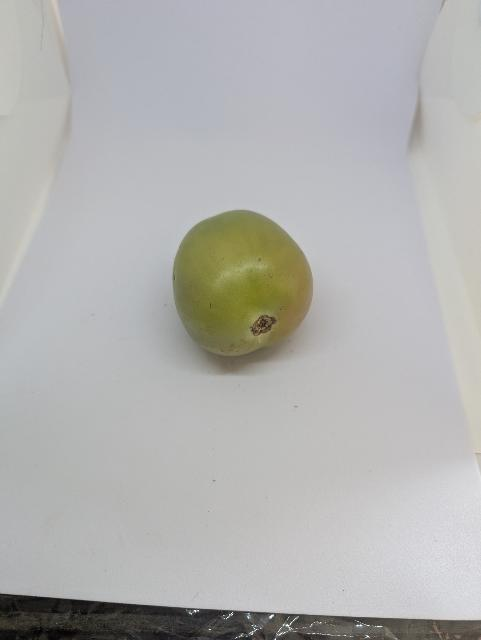green: (159, 197, 332, 388)
